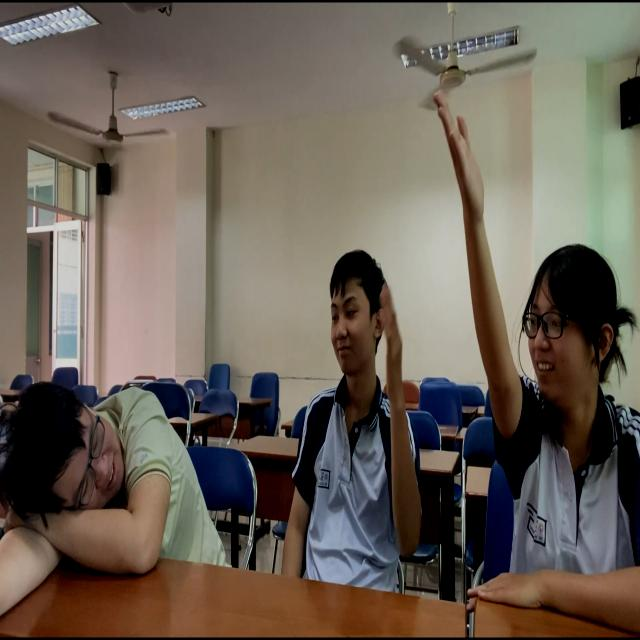raise_hand: (428, 89, 640, 640), (259, 241, 419, 599)
sleep: (1, 366, 217, 581)
